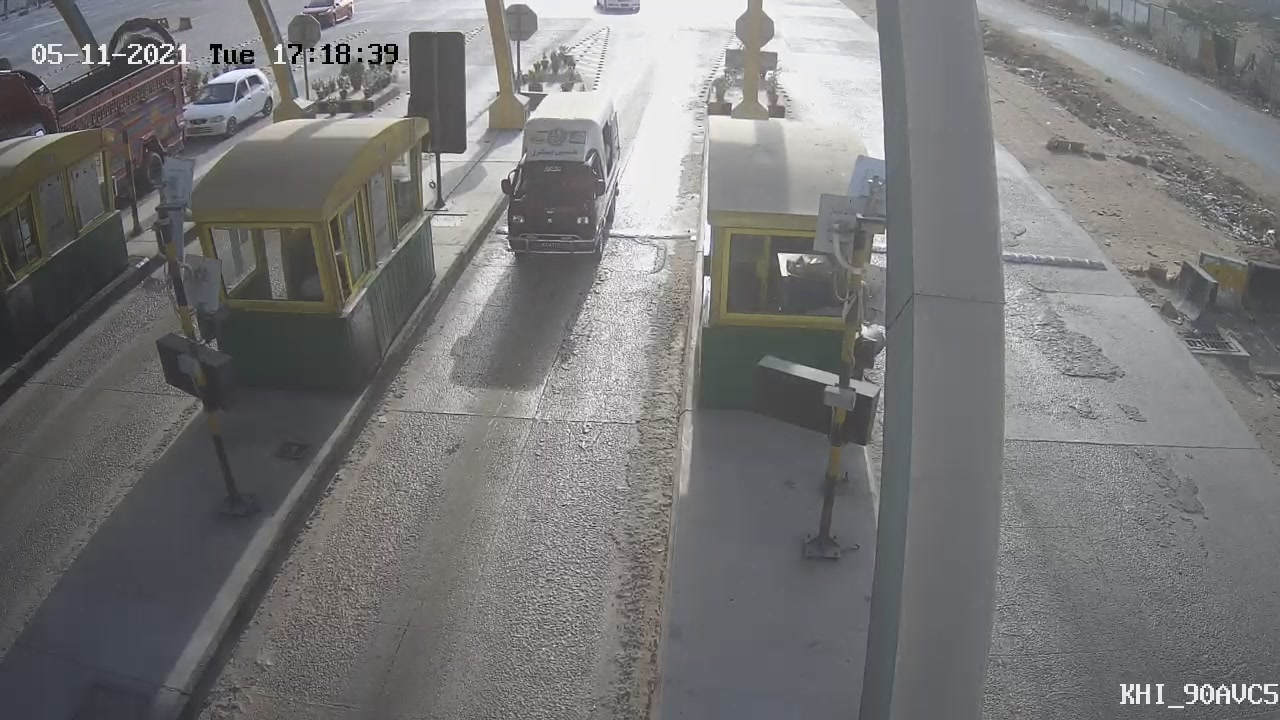F1: (477, 74, 642, 287)
